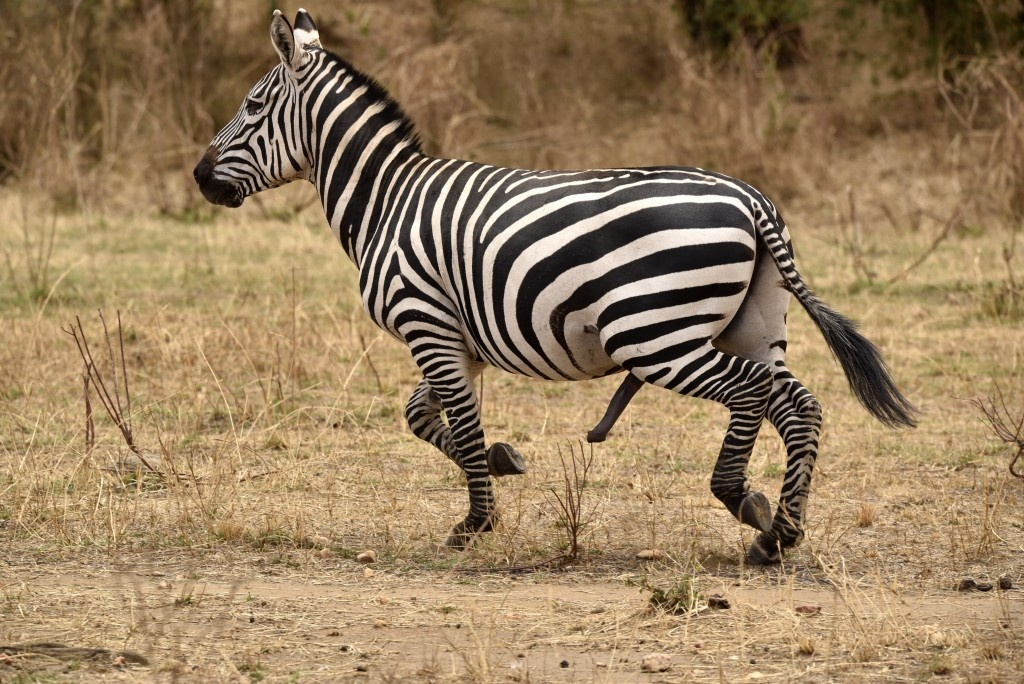zebra: (193, 6, 902, 565)
